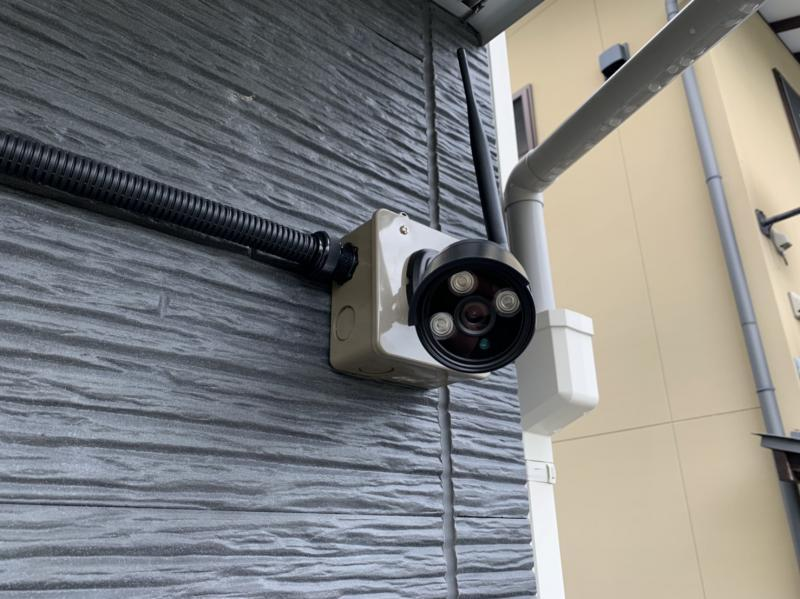maru: (401, 214, 544, 394)
